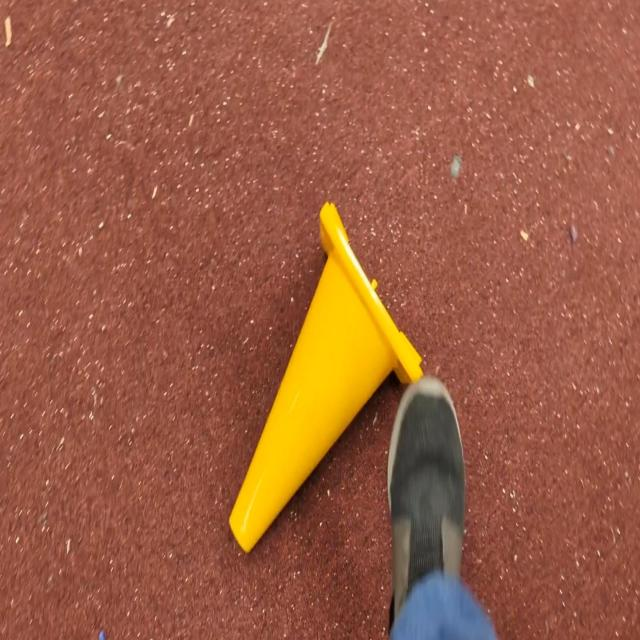frc_cone: (226, 196, 423, 564)
